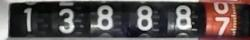digits: (213, 0, 229, 37), (94, 4, 113, 29), (57, 8, 75, 33), (135, 5, 152, 30), (175, 4, 192, 29), (22, 7, 32, 31)
